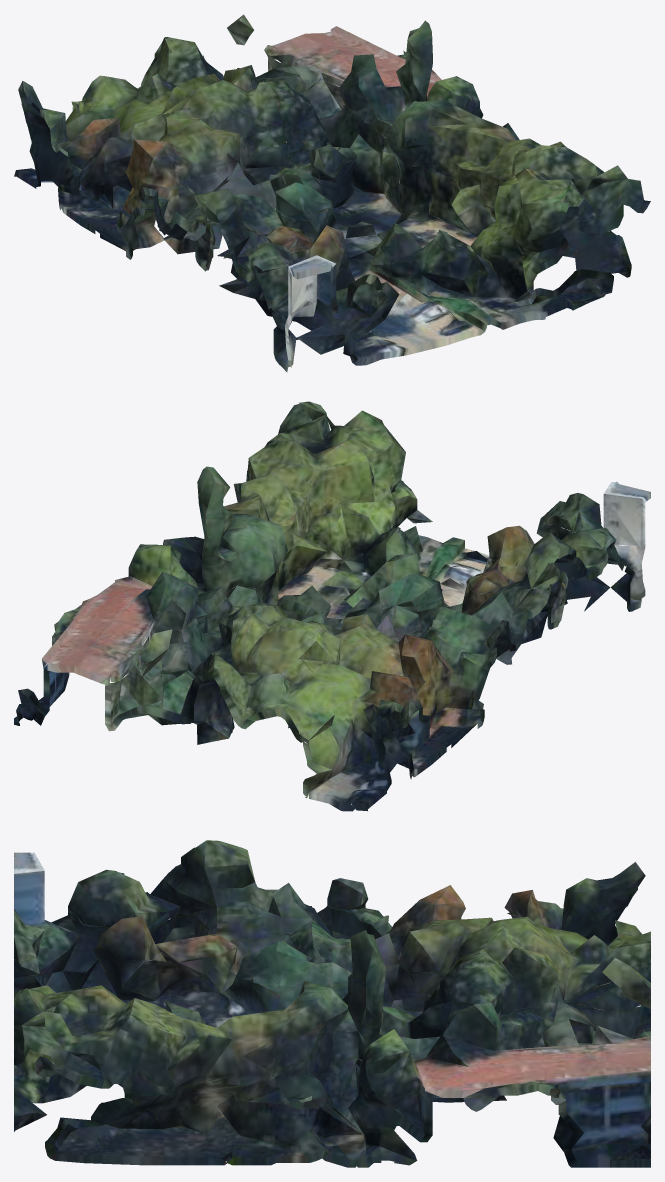
3 views of the same model, one above another, from view 1: azimuth 30°, elevation 25°; view 2: azimuth 150°, elevation 25°; view 3: azimuth 270°, elevation 25° (orthographic). The views are drawn at different scales.
Parts seen in each view (by area): view 1: 3043627270437041463_0; view 2: 3043627270437041463_0; view 3: 3043627270437041463_0.
Part boxes in pixels (left/top/right/bottom): 3043627270437041463_0: left=14, top=14, right=650, bottom=372; 3043627270437041463_0: left=14, top=401, right=650, bottom=811; 3043627270437041463_0: left=14, top=840, right=650, bottom=1167.
Bounding box in the file's own units: 55.87 × 27.75 × 76.53.
1 material, 1 textured.
